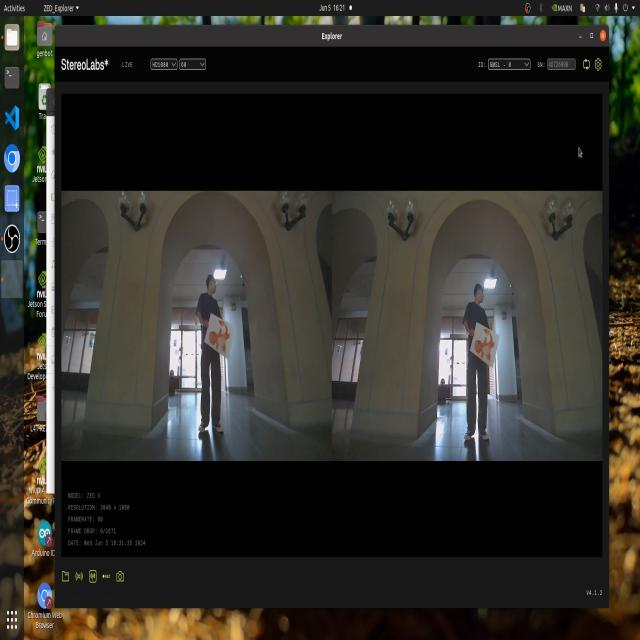red: (212, 312, 240, 359), (467, 327, 497, 366)
